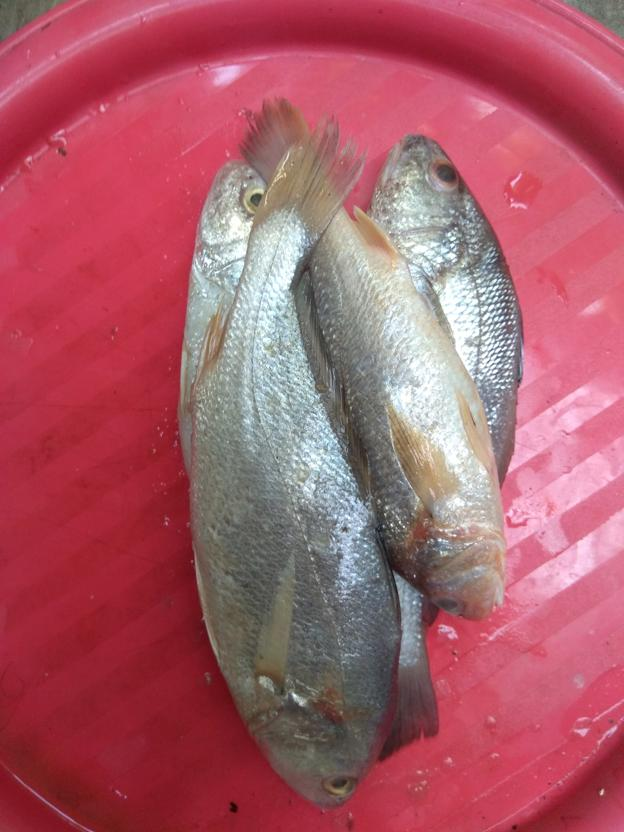Fish head: (369, 134, 484, 279), (244, 702, 388, 808), (193, 160, 269, 291)
Fish tail: (253, 120, 373, 253), (239, 92, 311, 184), (379, 658, 441, 762)
